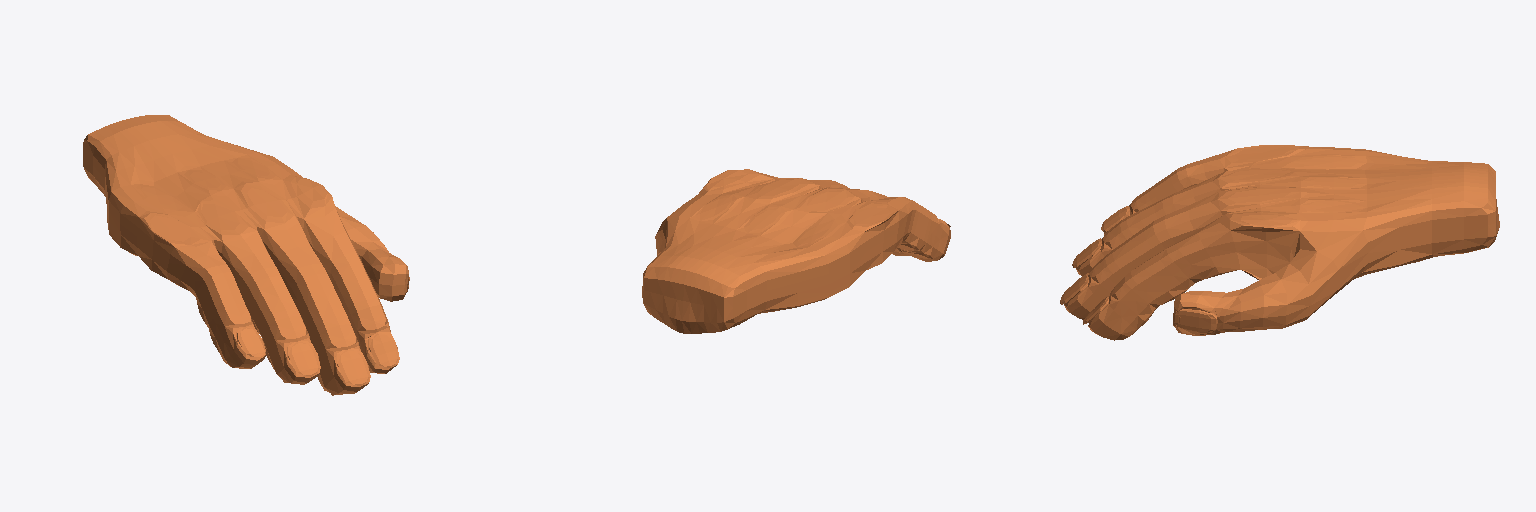
File: hand2.obj
The picture shows the model from 3 angles: view 1: azimuth 30°, elevation 25°; view 2: azimuth 150°, elevation 25°; view 3: azimuth 270°, elevation 25°; orthographic projection.
Visible parts, largest first — view 1: Box001; view 2: Box001; view 3: Box001.
Part boxes in pixels (left/top/right/bottom): Box001: left=83, top=115, right=409, bottom=395; Box001: left=642, top=169, right=950, bottom=333; Box001: left=1060, top=145, right=1499, bottom=340.
Size of the model in its own units: 196 by 117 by 336.